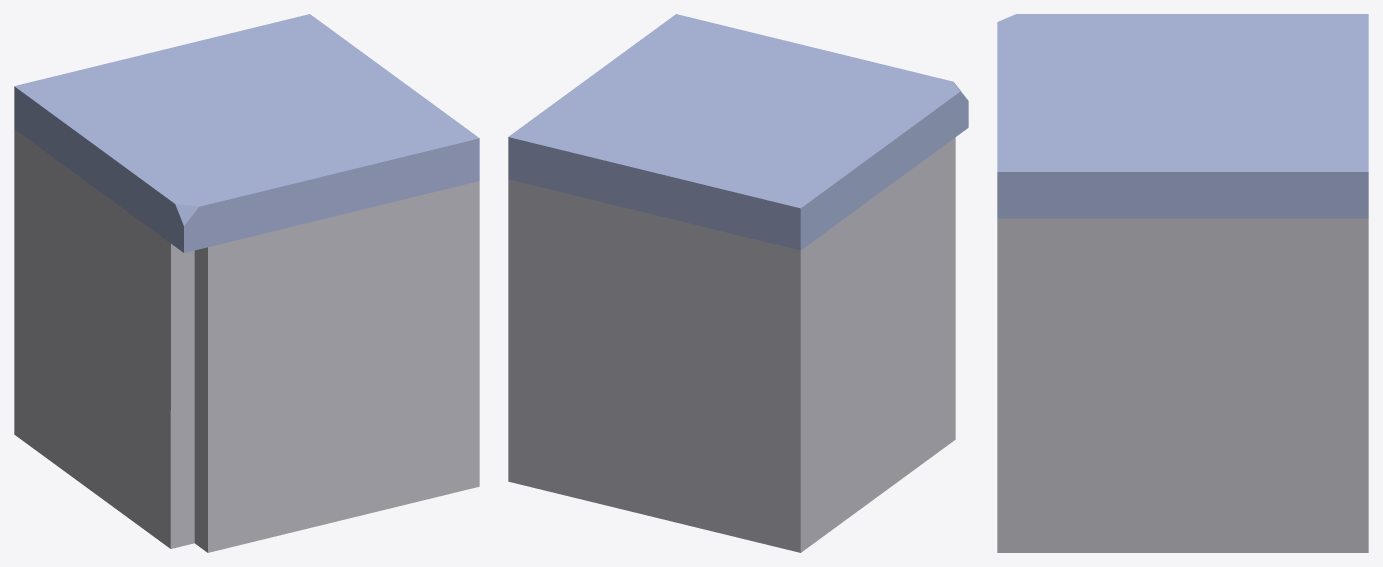
File: cupboard_top_corner.fbx
3 renders of one model, left to right at view 1: azimuth 30°, elevation 25°; view 2: azimuth 150°, elevation 25°; view 3: azimuth 270°, elevation 25°, orthographic. The views are drawn at different scales.
Parts seen in each view (by area): view 1: Cube.086; view 2: Cube.086; view 3: Cube.086.
Boxes of the visible parts, x1,y1,x2,y2 form: Cube.086: (14,14,479,552); Cube.086: (508,14,968,552); Cube.086: (997,14,1368,552).
Bounding box in the file's own units: 196 × 220 × 194.
